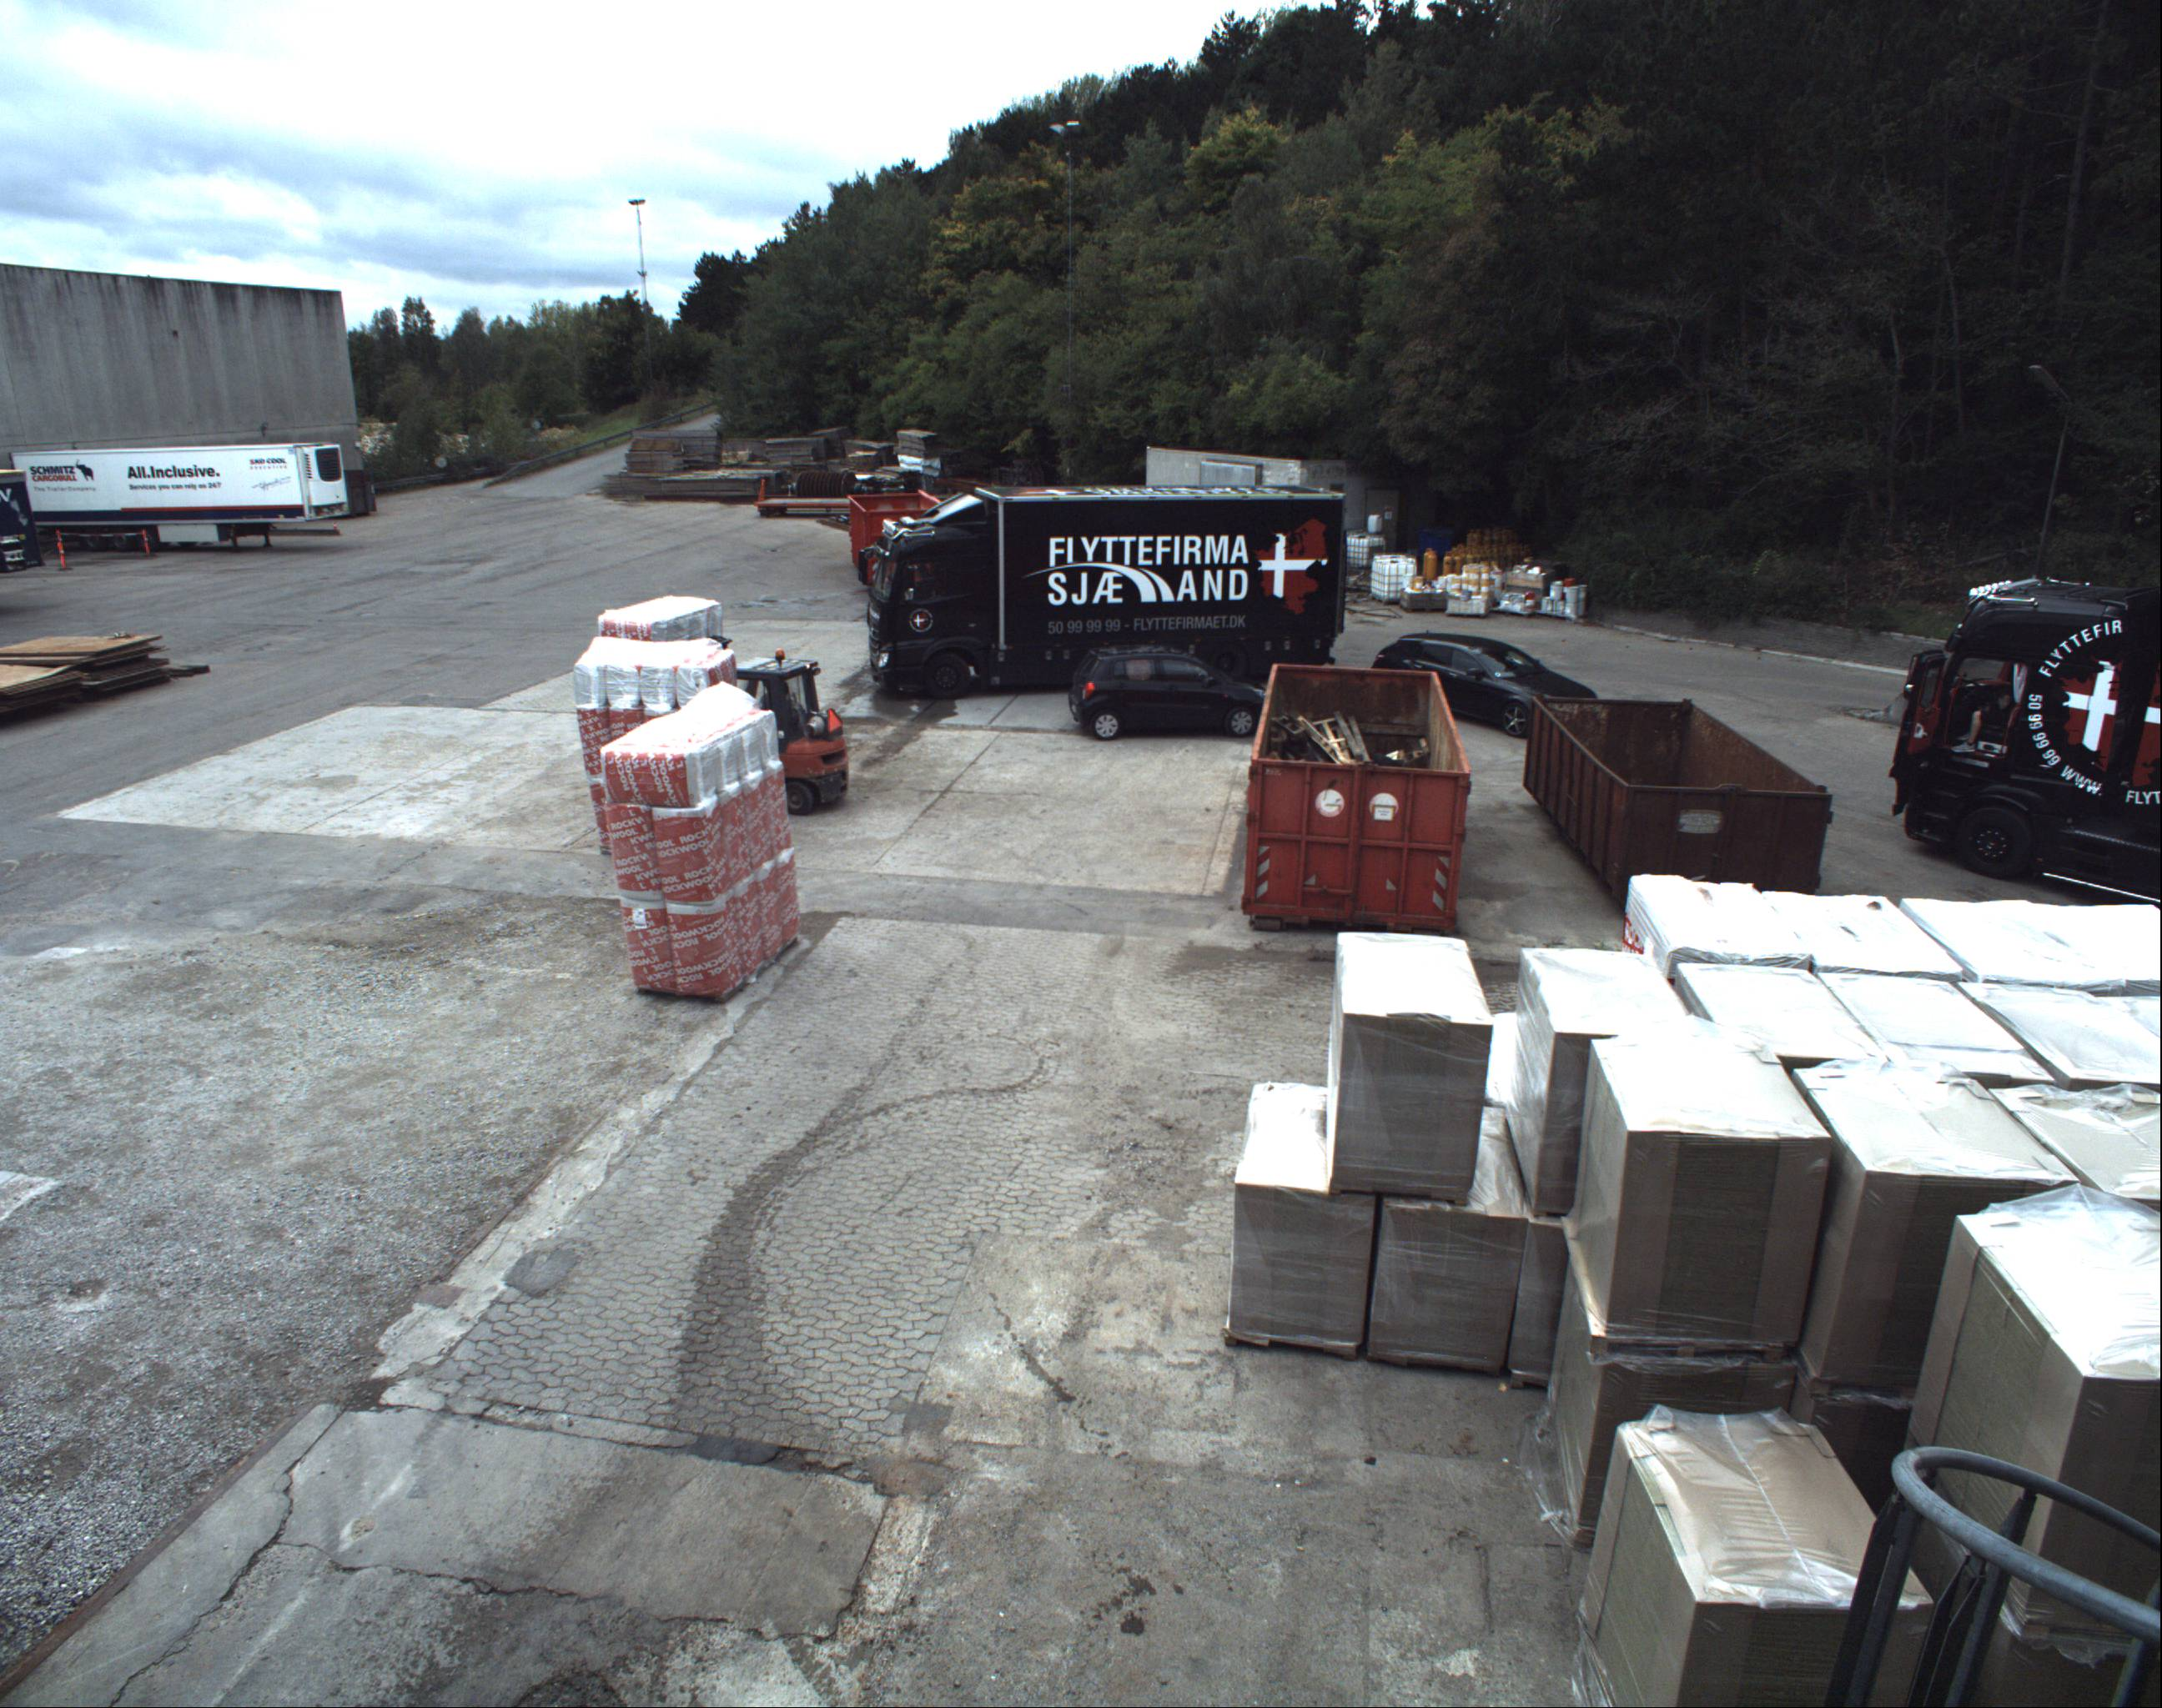rockwool_batts: (591, 704, 795, 997), (572, 630, 730, 774), (598, 581, 714, 637)
